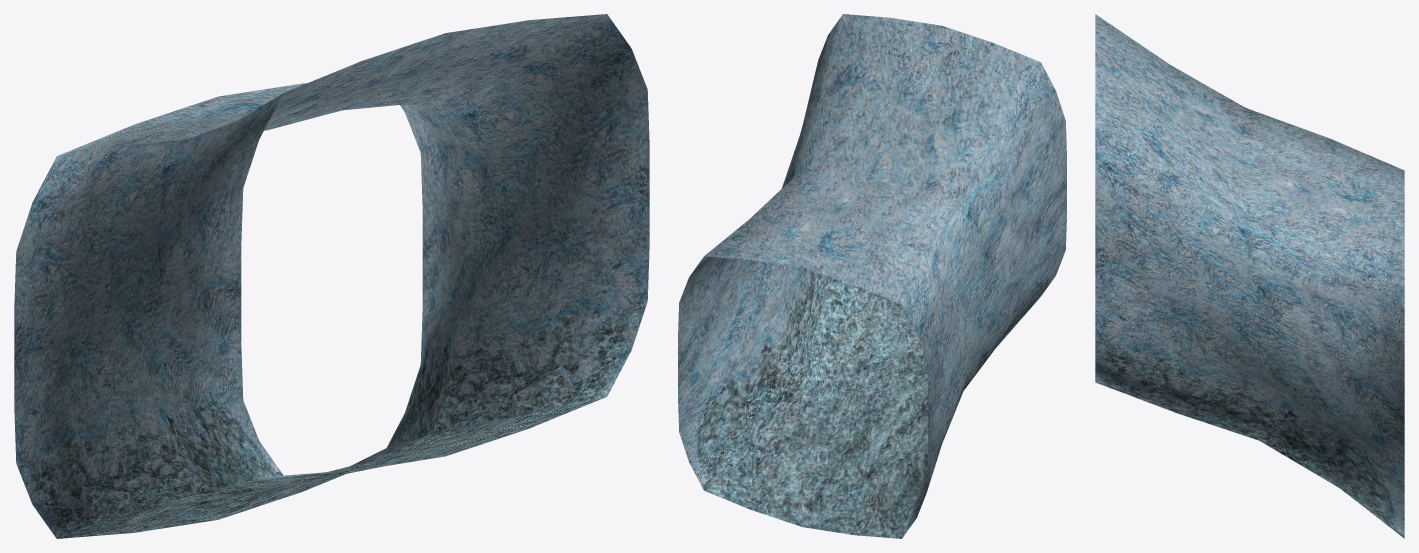
The model's file is thm_all_cave_flatland_s03_ice_r13_r13.fbx.
3 renders of one model, left to right at view 1: azimuth 30°, elevation 25°; view 2: azimuth 150°, elevation 25°; view 3: azimuth 270°, elevation 25°, orthographic. The views are drawn at different scales.
Parts seen in each view (by area): view 1: mesh_node; view 2: mesh_node; view 3: mesh_node.
Part boxes in pixels (x1,y1,x2,y2): mesh_node: [14, 14, 649, 538]; mesh_node: [678, 14, 1066, 538]; mesh_node: [1095, 14, 1404, 538].
Size of the model in its own units: 8 by 12.23 by 7.71.
